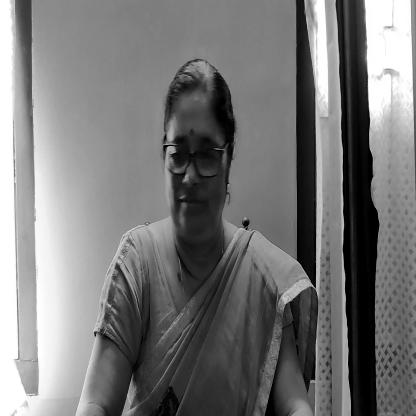Normal: (161, 66, 233, 243)
